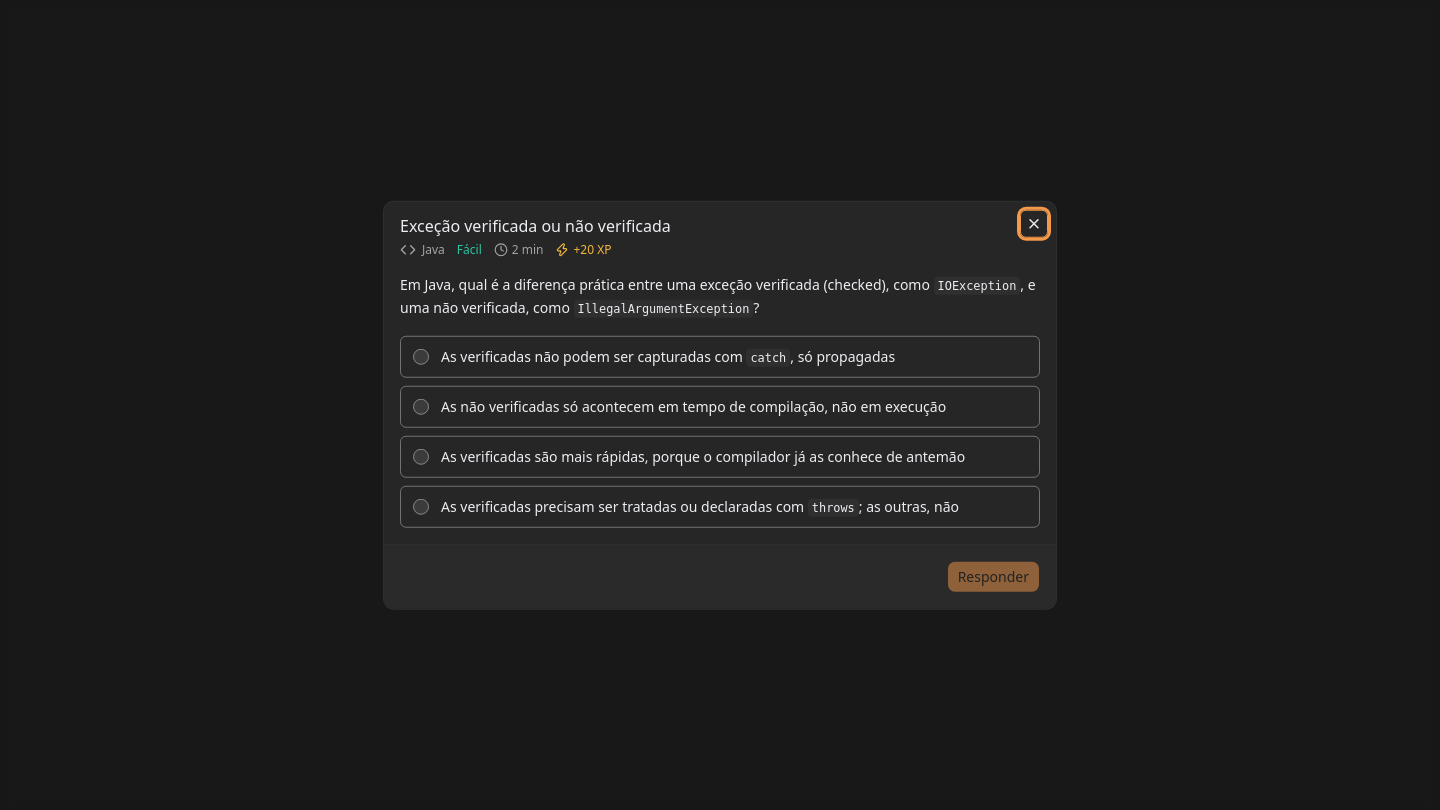
Test: QuestionDialog › acertar uma questão nova mostra o XP ganho
Expected: the dialog does not show "Você já resolveu", [384,202,1056,608]
Click the 4th radio button: [421, 506] box [413,498,429,514]
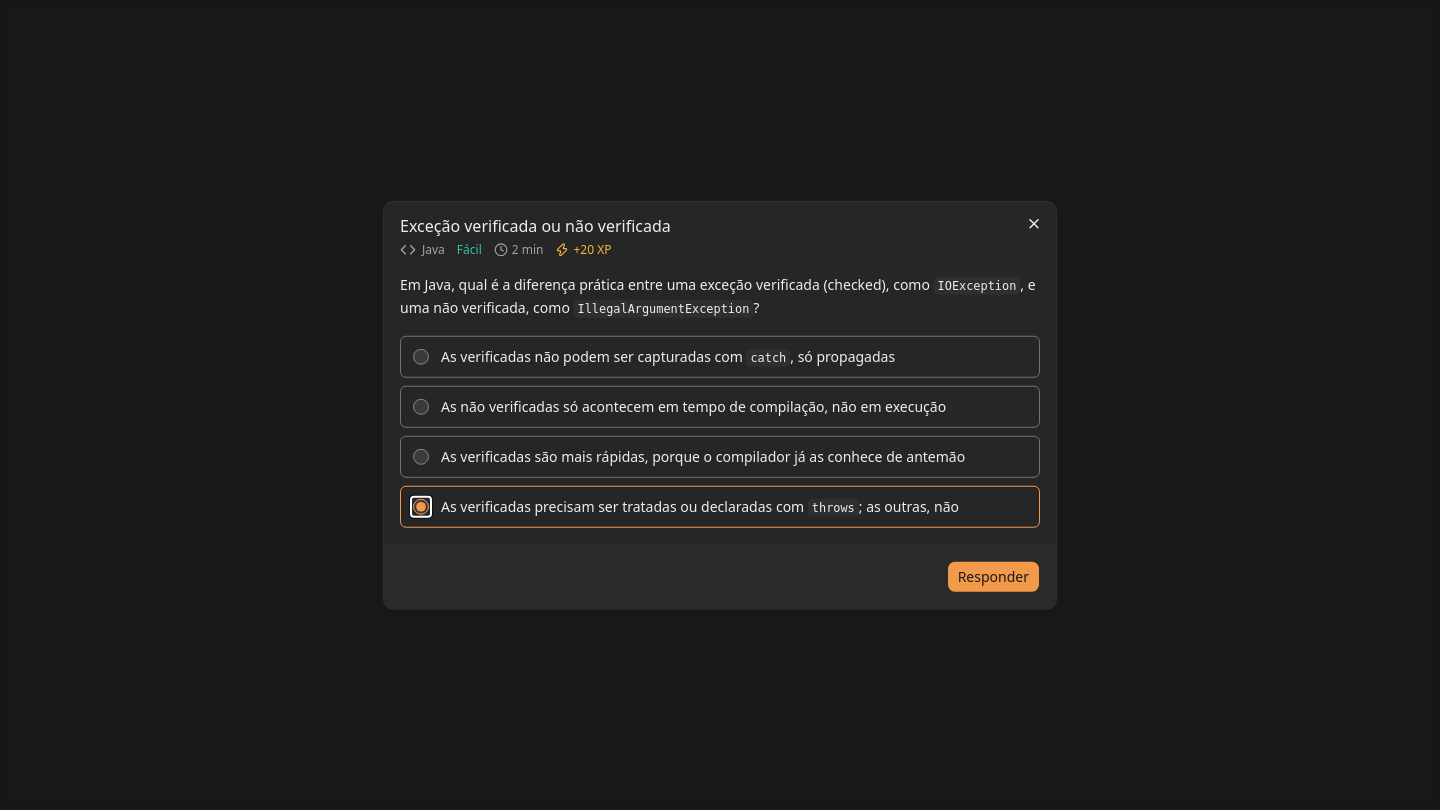
Click the button "Responder": [993, 576] box [947,560,1040,592]
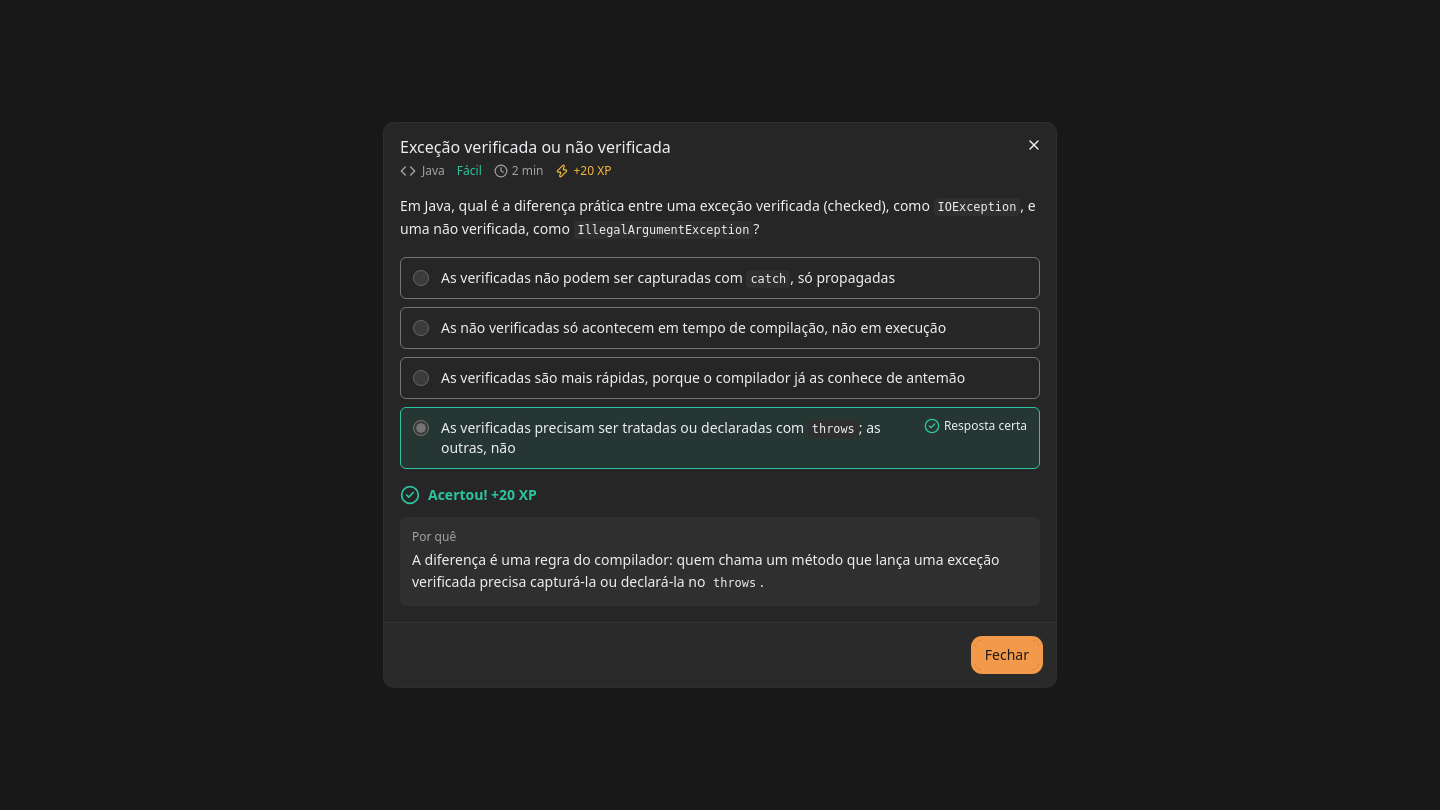
Now the text "Acertou! +20 XP" is shown, box [428,484,537,504]
